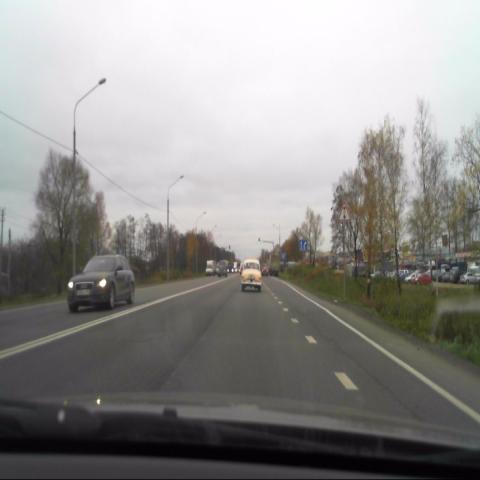1_8: (338, 202, 350, 222)
